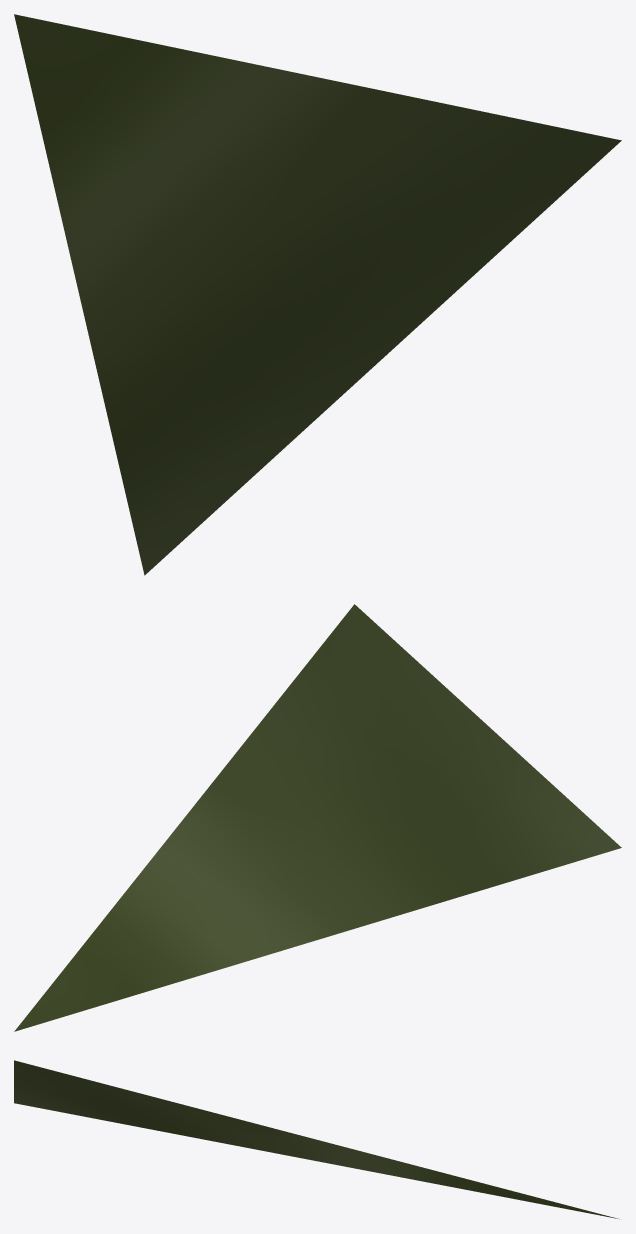
3 views of the same model, one above another, from view 1: azimuth 30°, elevation 25°; view 2: azimuth 150°, elevation 25°; view 3: azimuth 270°, elevation 25° (orthographic). The views are drawn at different scales.
Bounding box in the file's own units: 0.0633 × 0.0404 × 0.1396.
1 material, 1 textured.
